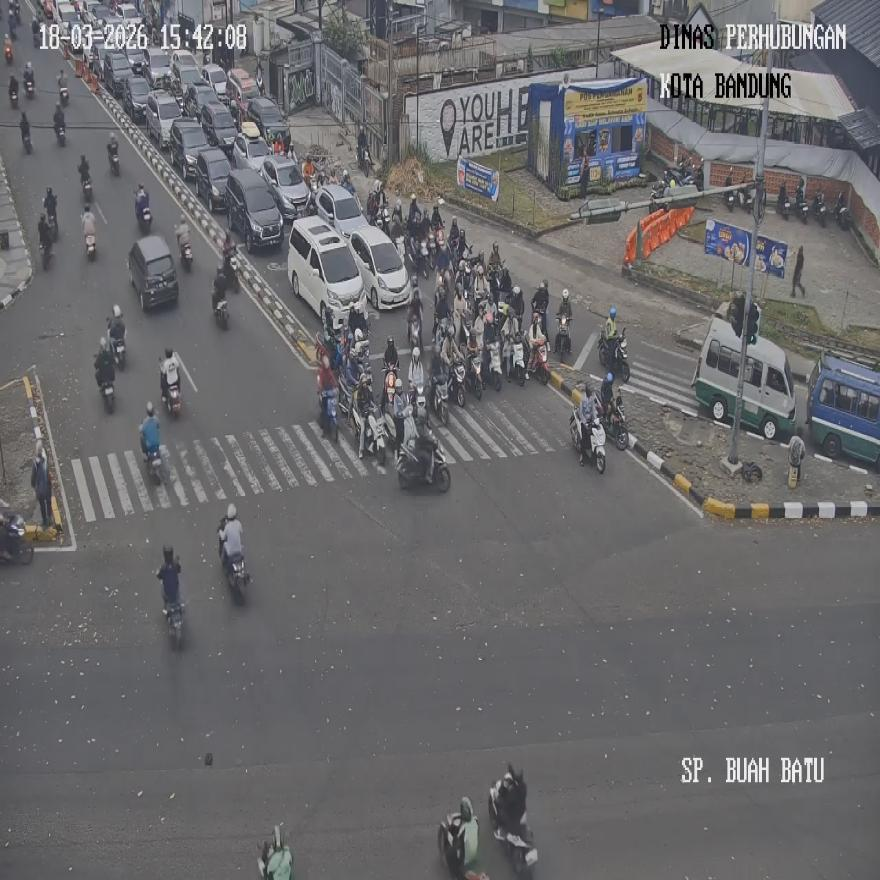Motor: (690, 313, 796, 442), (287, 215, 368, 334), (806, 350, 879, 465)
Truk: (488, 781, 538, 879), (438, 810, 487, 880), (396, 432, 450, 492), (219, 523, 251, 603), (570, 409, 606, 473), (256, 824, 293, 880), (598, 328, 629, 384), (0, 514, 33, 564), (140, 419, 164, 485), (362, 403, 385, 462), (160, 363, 182, 418), (606, 396, 628, 450), (319, 386, 338, 441), (528, 339, 549, 386), (406, 234, 428, 278), (464, 353, 483, 402), (430, 375, 448, 424), (38, 214, 53, 269), (486, 340, 502, 391), (135, 184, 151, 233), (212, 282, 228, 330), (511, 340, 526, 385), (177, 230, 193, 271), (223, 251, 239, 292), (649, 178, 668, 212), (556, 316, 570, 360), (98, 375, 114, 413), (740, 180, 757, 215), (406, 313, 421, 352), (111, 332, 126, 370), (724, 169, 737, 212), (356, 141, 371, 177), (54, 107, 66, 146), (813, 191, 826, 226), (836, 193, 848, 230), (779, 185, 791, 221), (797, 190, 808, 224), (58, 74, 69, 108), (108, 145, 120, 176), (9, 77, 19, 109), (23, 71, 34, 99), (82, 174, 93, 202), (84, 232, 95, 259), (4, 36, 13, 64), (32, 19, 41, 46)
